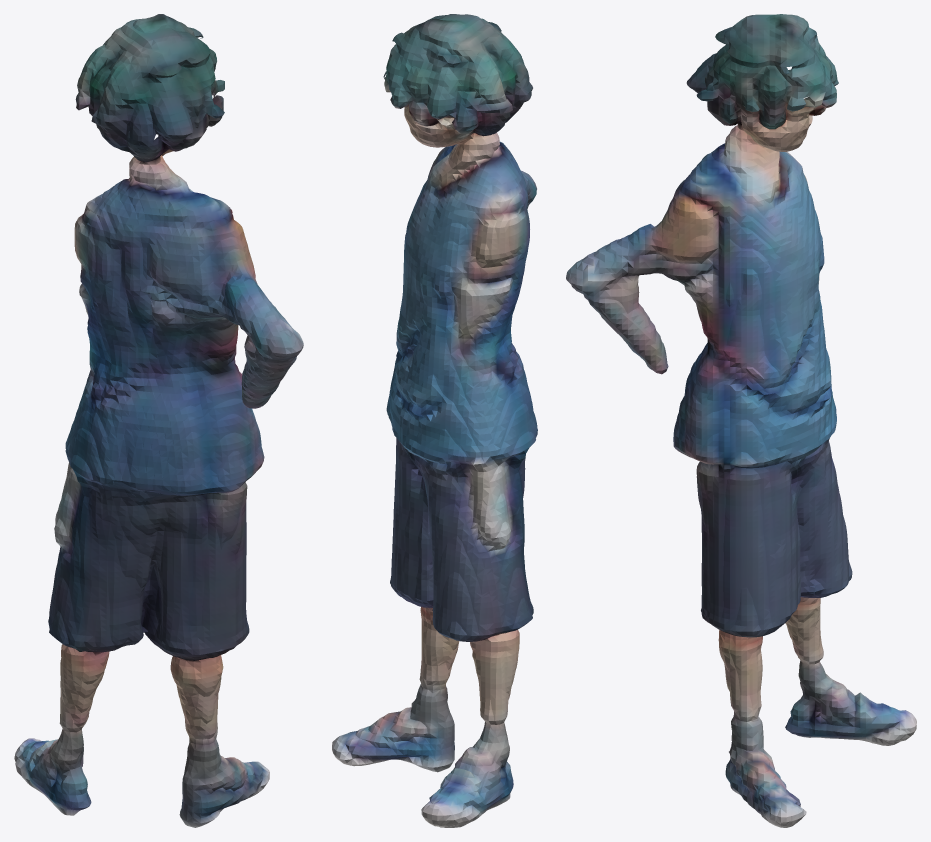
The model's file is mc_raw.glb.
The picture shows the model from 3 angles, left to right: view 1: azimuth 30°, elevation 25°; view 2: azimuth 150°, elevation 25°; view 3: azimuth 270°, elevation 25°; orthographic projection. The views are drawn at different scales.
Visible parts, largest first — view 1: world; view 2: world; view 3: world.
Part boxes in pixels (box(x1,y1,x2,y2)): world: box(14, 14, 303, 827); world: box(332, 14, 537, 827); world: box(566, 14, 916, 827).
Size of the model in its own units: 0.2756 by 1.01 by 0.4223.
